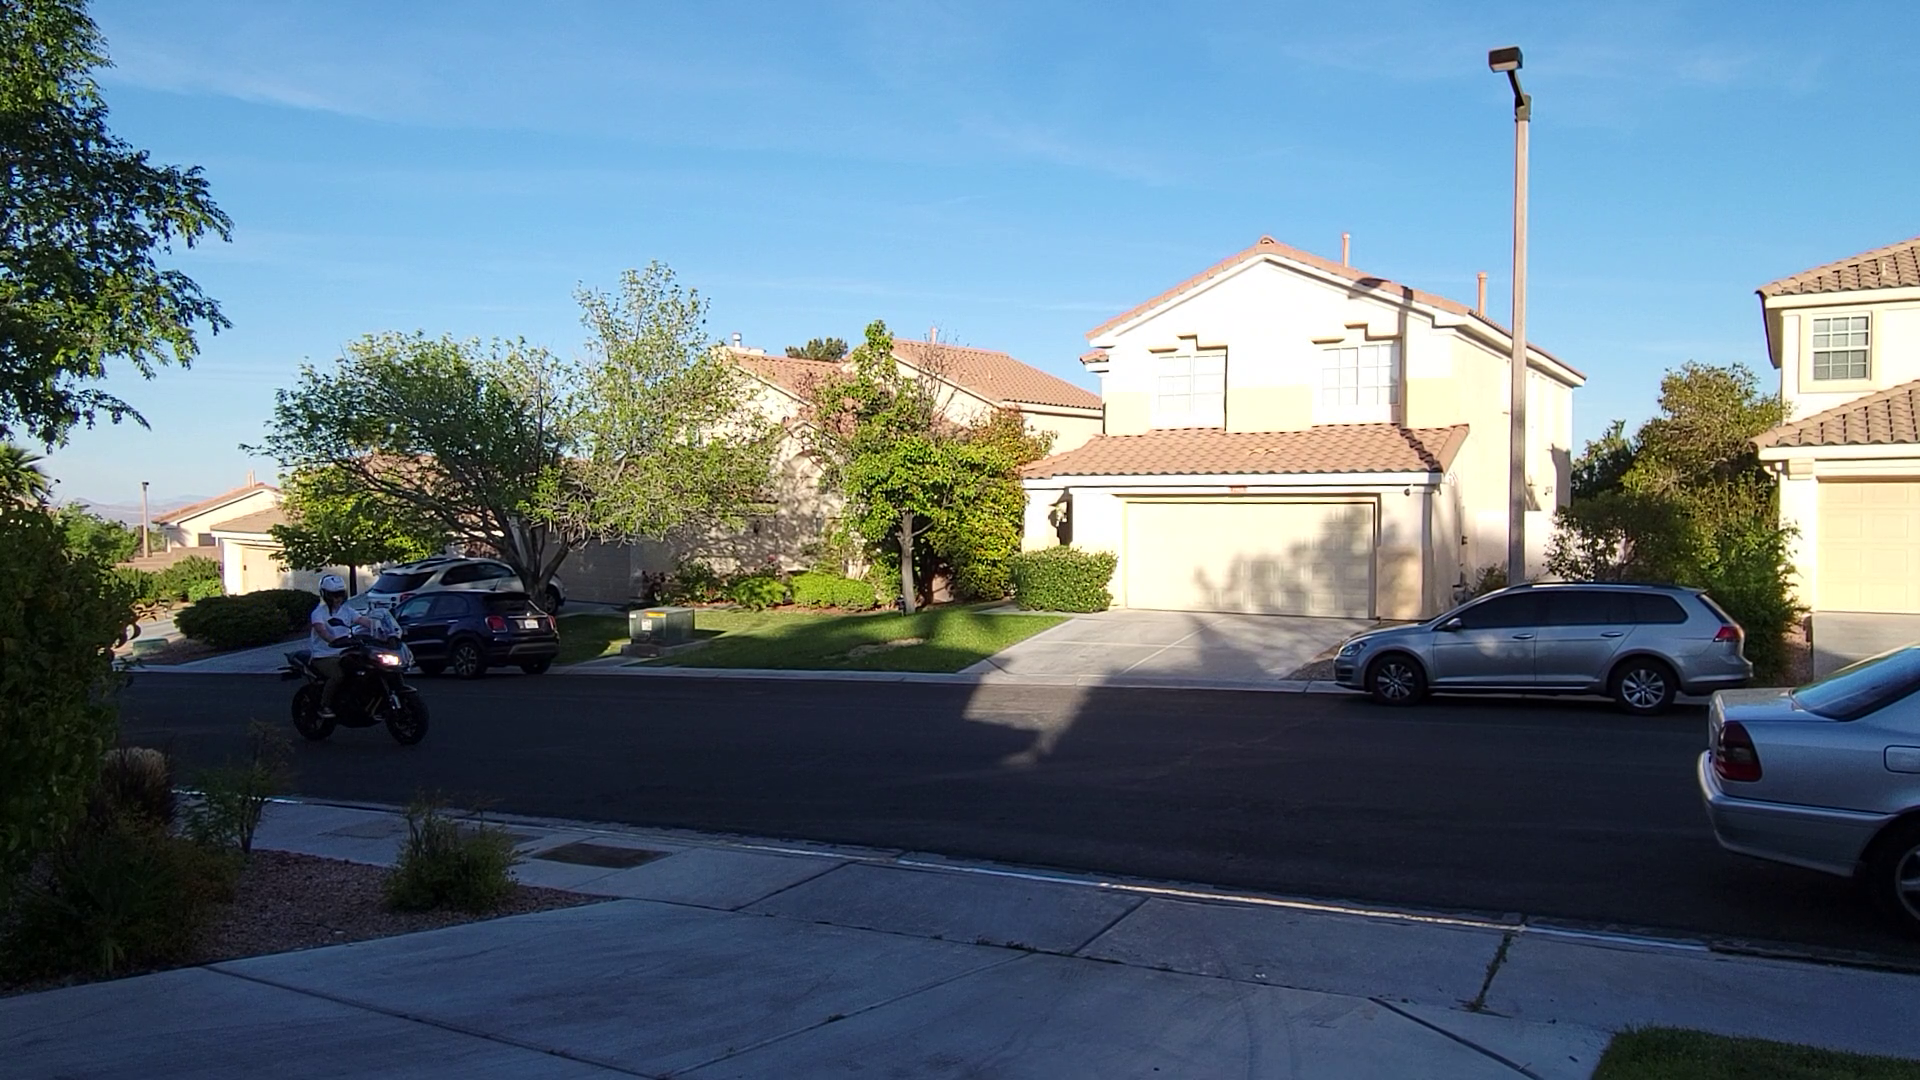my bike: (268, 570, 434, 748)
